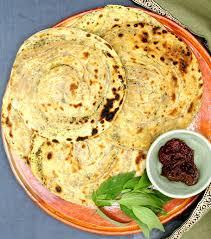paratha: (28, 40, 121, 129), (33, 135, 143, 209), (115, 18, 192, 122)
